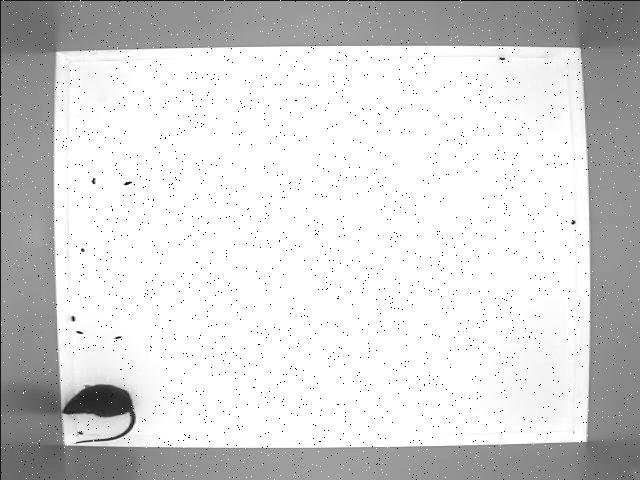Tikus: (61, 382, 138, 446)
